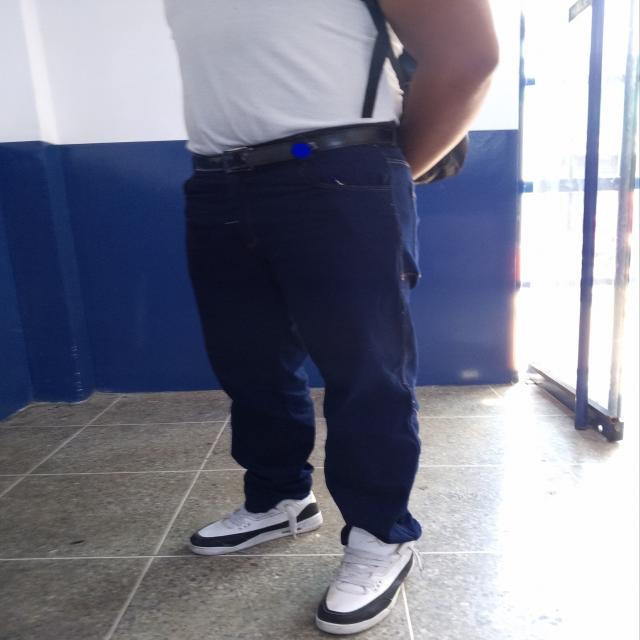pantalon_oscuro: (181, 139, 424, 546)
